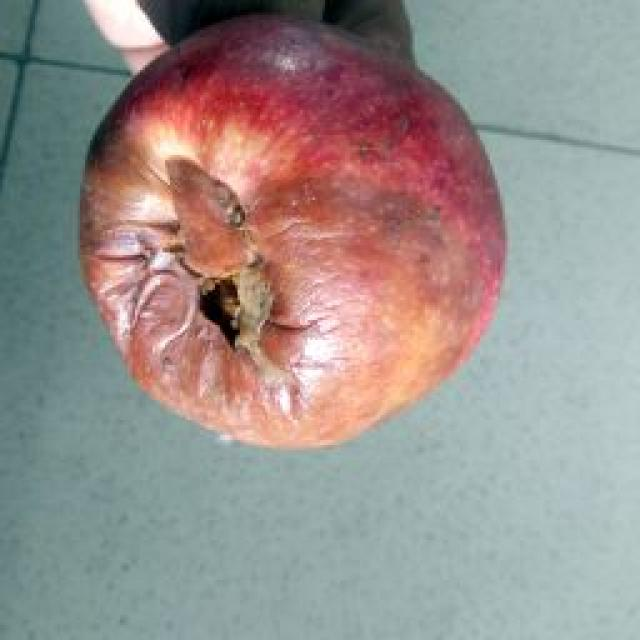Bad_Apple: (81, 16, 502, 447)
